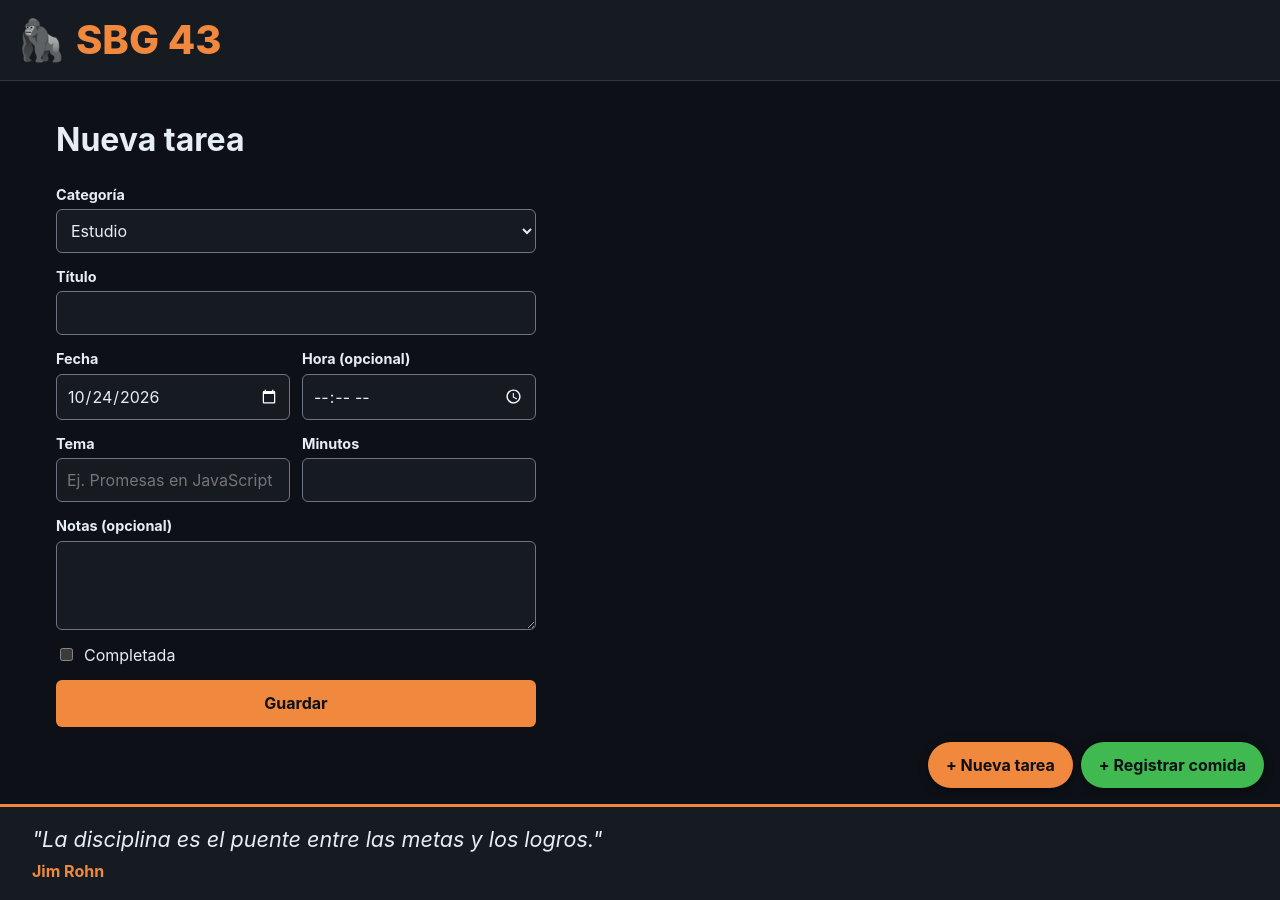
muestra un error si el título está vacío
Click the button "Guardar" at [296, 703], box [56, 680, 536, 727]
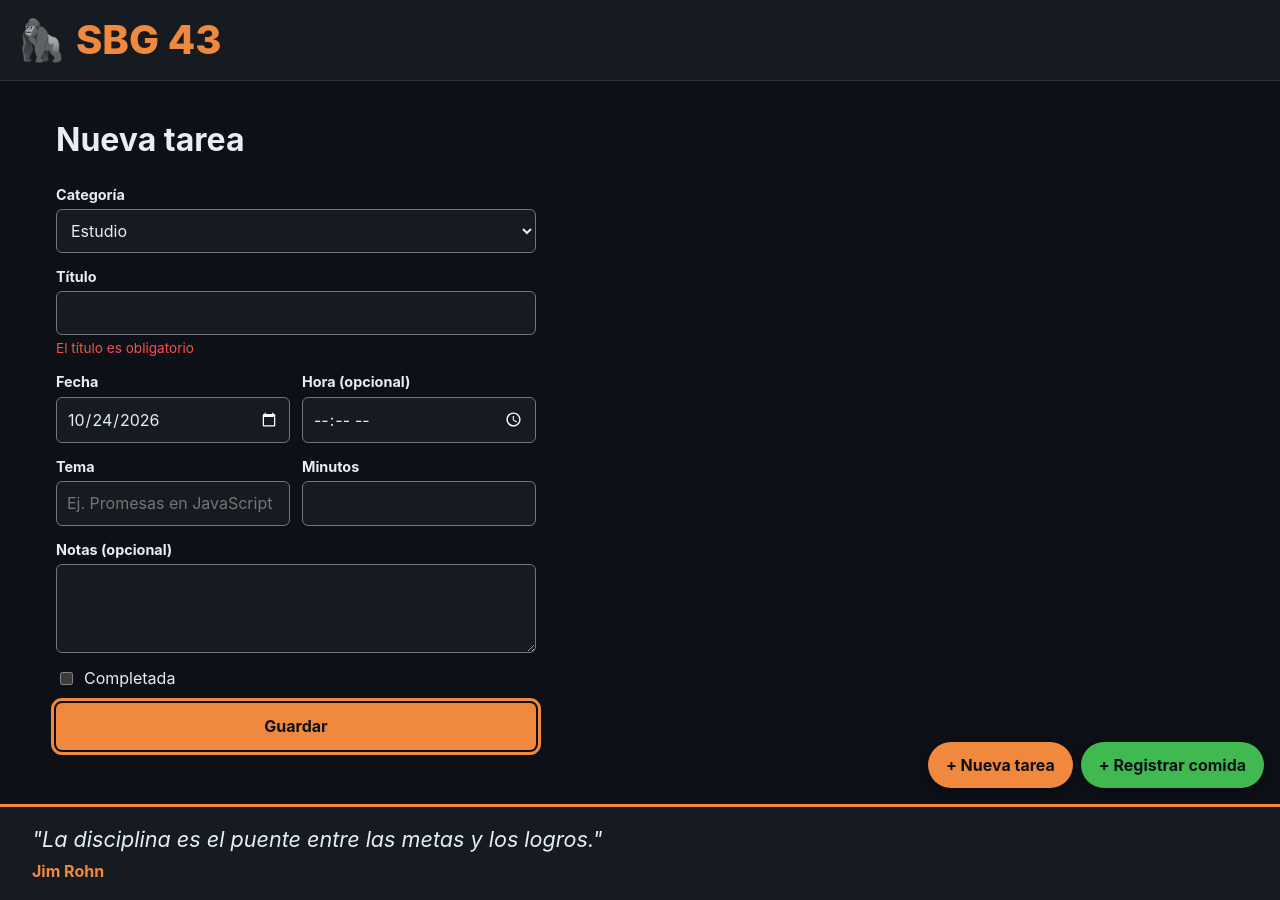
Result: the text "El título es obligatorio" is shown at [56, 340, 194, 356]
